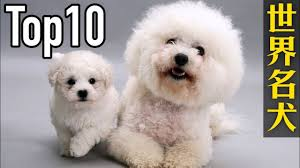dog: (130, 8, 239, 103), (47, 54, 117, 107)
